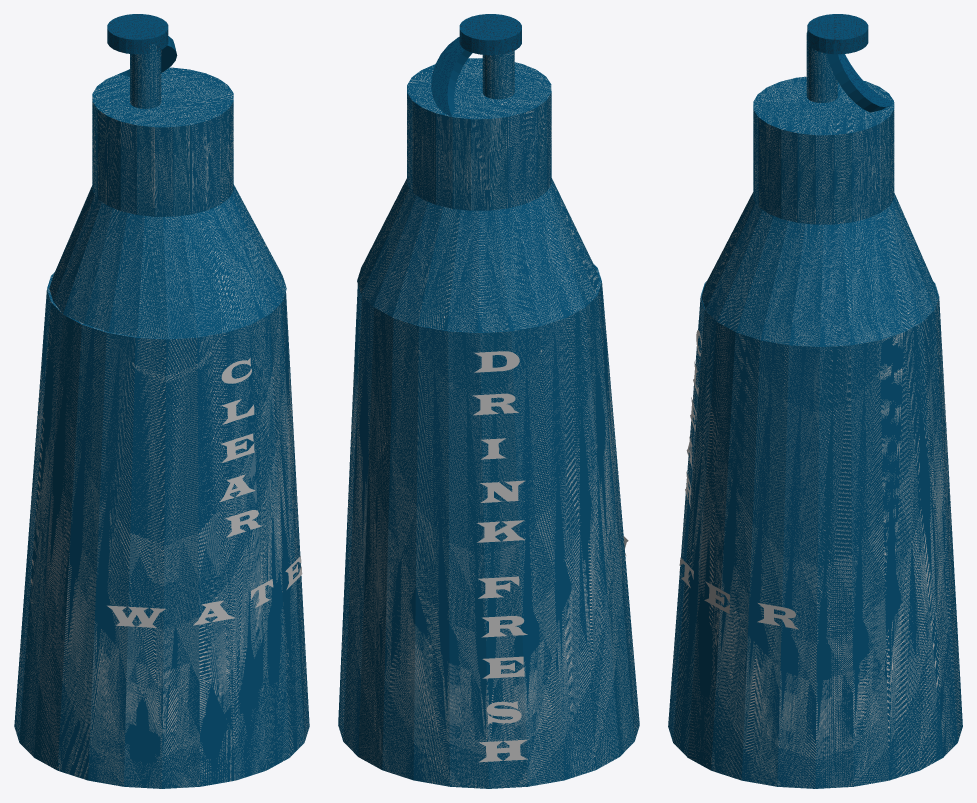
3 views of the same model, side by side, from view 1: azimuth 30°, elevation 25°; view 2: azimuth 150°, elevation 25°; view 3: azimuth 270°, elevation 25° (orthographic). The views are drawn at different scales.
Visible parts, largest first — view 1: mesh21_mesh21-geometry, mesh22_mesh22-geometry, mesh23_mesh23-geometry, mesh16.001_mesh16-geometry; view 2: mesh21_mesh21-geometry, mesh22_mesh22-geometry, mesh23_mesh23-geometry, mesh24_mesh24-geometry, mesh10.001_mesh10-geometry, mesh5.001_mesh5-geometry, mesh2.001_mesh2-geometry, mesh7.001_mesh7-geometry, mesh1.001_mesh1-geometry, mesh4.001_mesh4-geometry, mesh8.001_mesh8-geometry, mesh9.001_mesh9-geometry; view 3: mesh21_mesh21-geometry, mesh22_mesh22-geometry, mesh23_mesh23-geometry, mesh24_mesh24-geometry, mesh20.001_mesh20-geometry.
Boxes of the visible parts, bbox=[...] form: mesh21_mesh21-geometry: bbox=[14, 272, 309, 788]; mesh22_mesh22-geometry: bbox=[49, 184, 286, 338]; mesh23_mesh23-geometry: bbox=[92, 14, 233, 216]; mesh16.001_mesh16-geometry: bbox=[107, 605, 165, 627]; mesh21_mesh21-geometry: bbox=[338, 264, 639, 788]; mesh22_mesh22-geometry: bbox=[357, 178, 599, 332]; mesh23_mesh23-geometry: bbox=[407, 14, 551, 210]; mesh24_mesh24-geometry: bbox=[431, 37, 472, 116]; mesh10.001_mesh10-geometry: bbox=[478, 739, 527, 762]; mesh5.001_mesh5-geometry: bbox=[477, 520, 524, 542]; mesh2.001_mesh2-geometry: bbox=[473, 393, 518, 415]; mesh7.001_mesh7-geometry: bbox=[481, 616, 527, 637]; mesh1.001_mesh1-geometry: bbox=[474, 351, 519, 372]; mesh4.001_mesh4-geometry: bbox=[480, 480, 525, 502]; mesh8.001_mesh8-geometry: bbox=[482, 656, 524, 678]; mesh9.001_mesh9-geometry: bbox=[486, 701, 521, 723]; mesh21_mesh21-geometry: bbox=[668, 281, 962, 788]; mesh22_mesh22-geometry: bbox=[701, 192, 938, 346]; mesh23_mesh23-geometry: bbox=[753, 14, 894, 224]; mesh24_mesh24-geometry: bbox=[827, 53, 893, 112]; mesh20.001_mesh20-geometry: bbox=[757, 603, 798, 629].
Size of the model in its own units: 0.3383 by 0.8781 by 0.3383.
